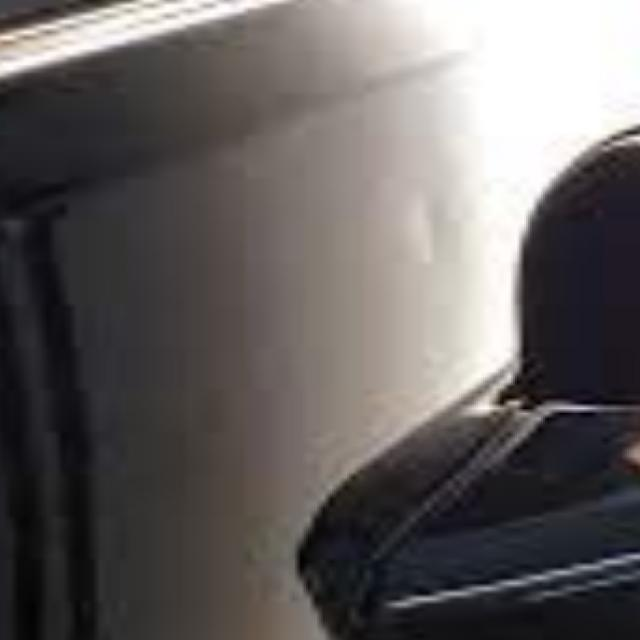dents: (380, 169, 478, 281)
